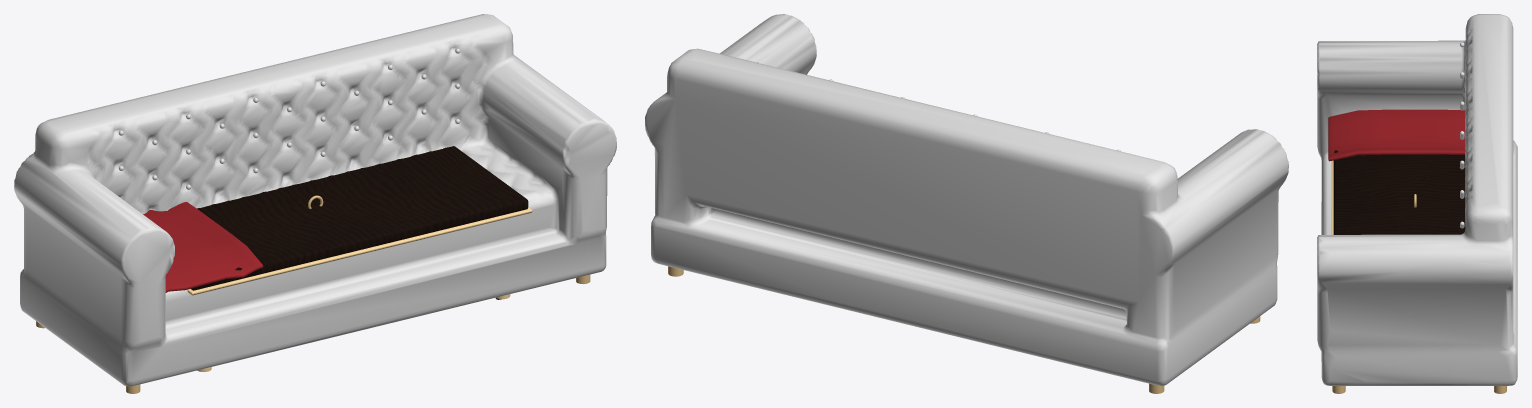
Rendered from props.glb.
3 views of the same model, side by side, from view 1: azimuth 30°, elevation 25°; view 2: azimuth 150°, elevation 25°; view 3: azimuth 270°, elevation 25° (orthographic). The views are drawn at different scales.
Parts seen in each view (by area): view 1: sofa_mesh, table_top, throw, table_trim; view 2: sofa_mesh; view 3: sofa_mesh, table_top, throw, table_trim.
Part boxes in pixels (x1,y1,x2,y2): sofa_mesh: [14, 14, 616, 386]; table_top: [191, 146, 528, 290]; throw: [143, 202, 263, 292]; table_trim: [187, 207, 532, 295]; sofa_mesh: [645, 14, 1288, 385]; sofa_mesh: [1317, 14, 1517, 385]; table_top: [1333, 150, 1465, 234]; throw: [1328, 109, 1465, 161]; table_trim: [1331, 160, 1333, 234].
Bounding box in the file's own units: 2.36 × 0.9295 × 0.9198.
17 materials, 1 textured.
